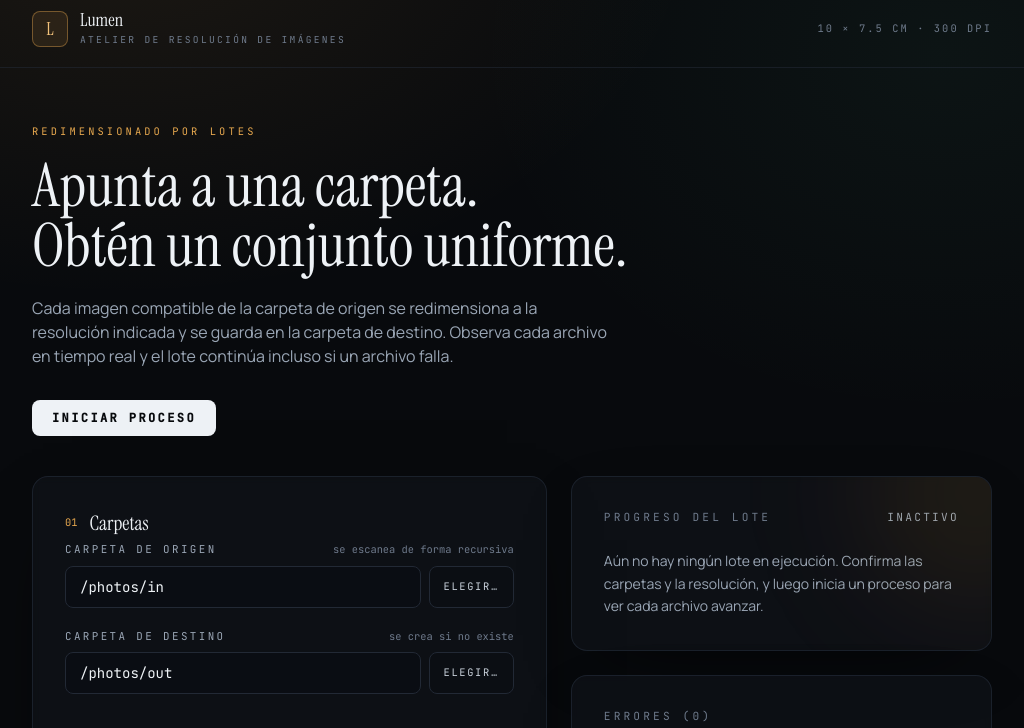
Scenario: App › shows the unavailable message when the picker answers 501
Expected: the field labelled "Carpeta de origen" is shown, [65, 566, 420, 608]
Click the button with aria-label "elegir ruta de origen" at x=471, y=587, box [428, 566, 514, 608]
(page scrolled)
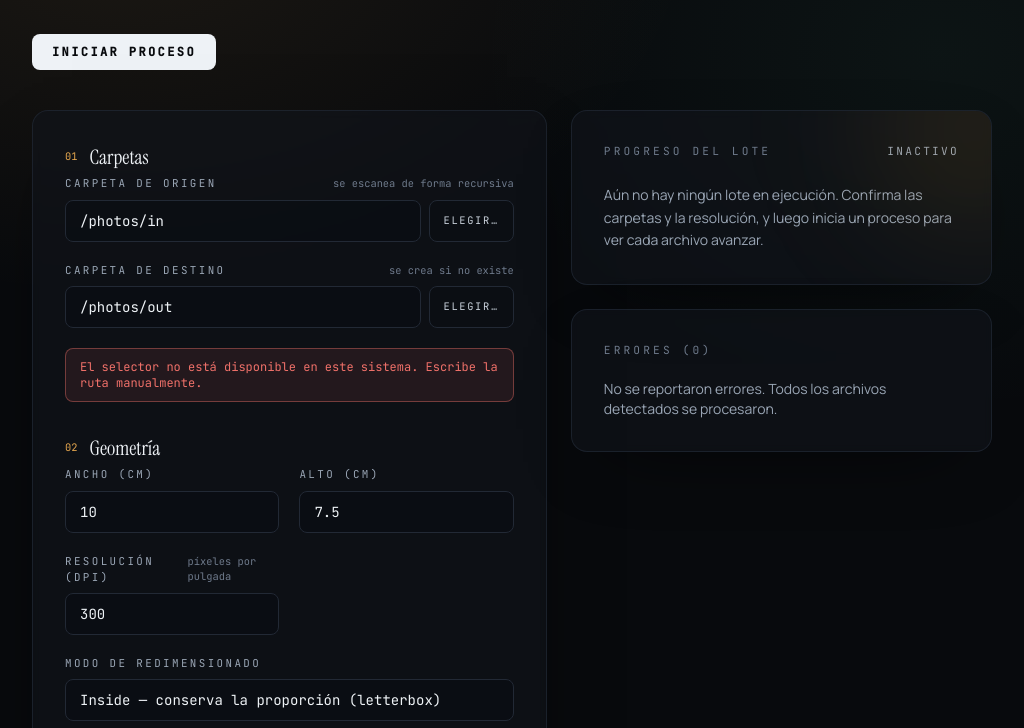
Result: the text "El selector no está disponible en este sistema. Escribe la ruta manualmente." is shown at [65, 348, 514, 402]
